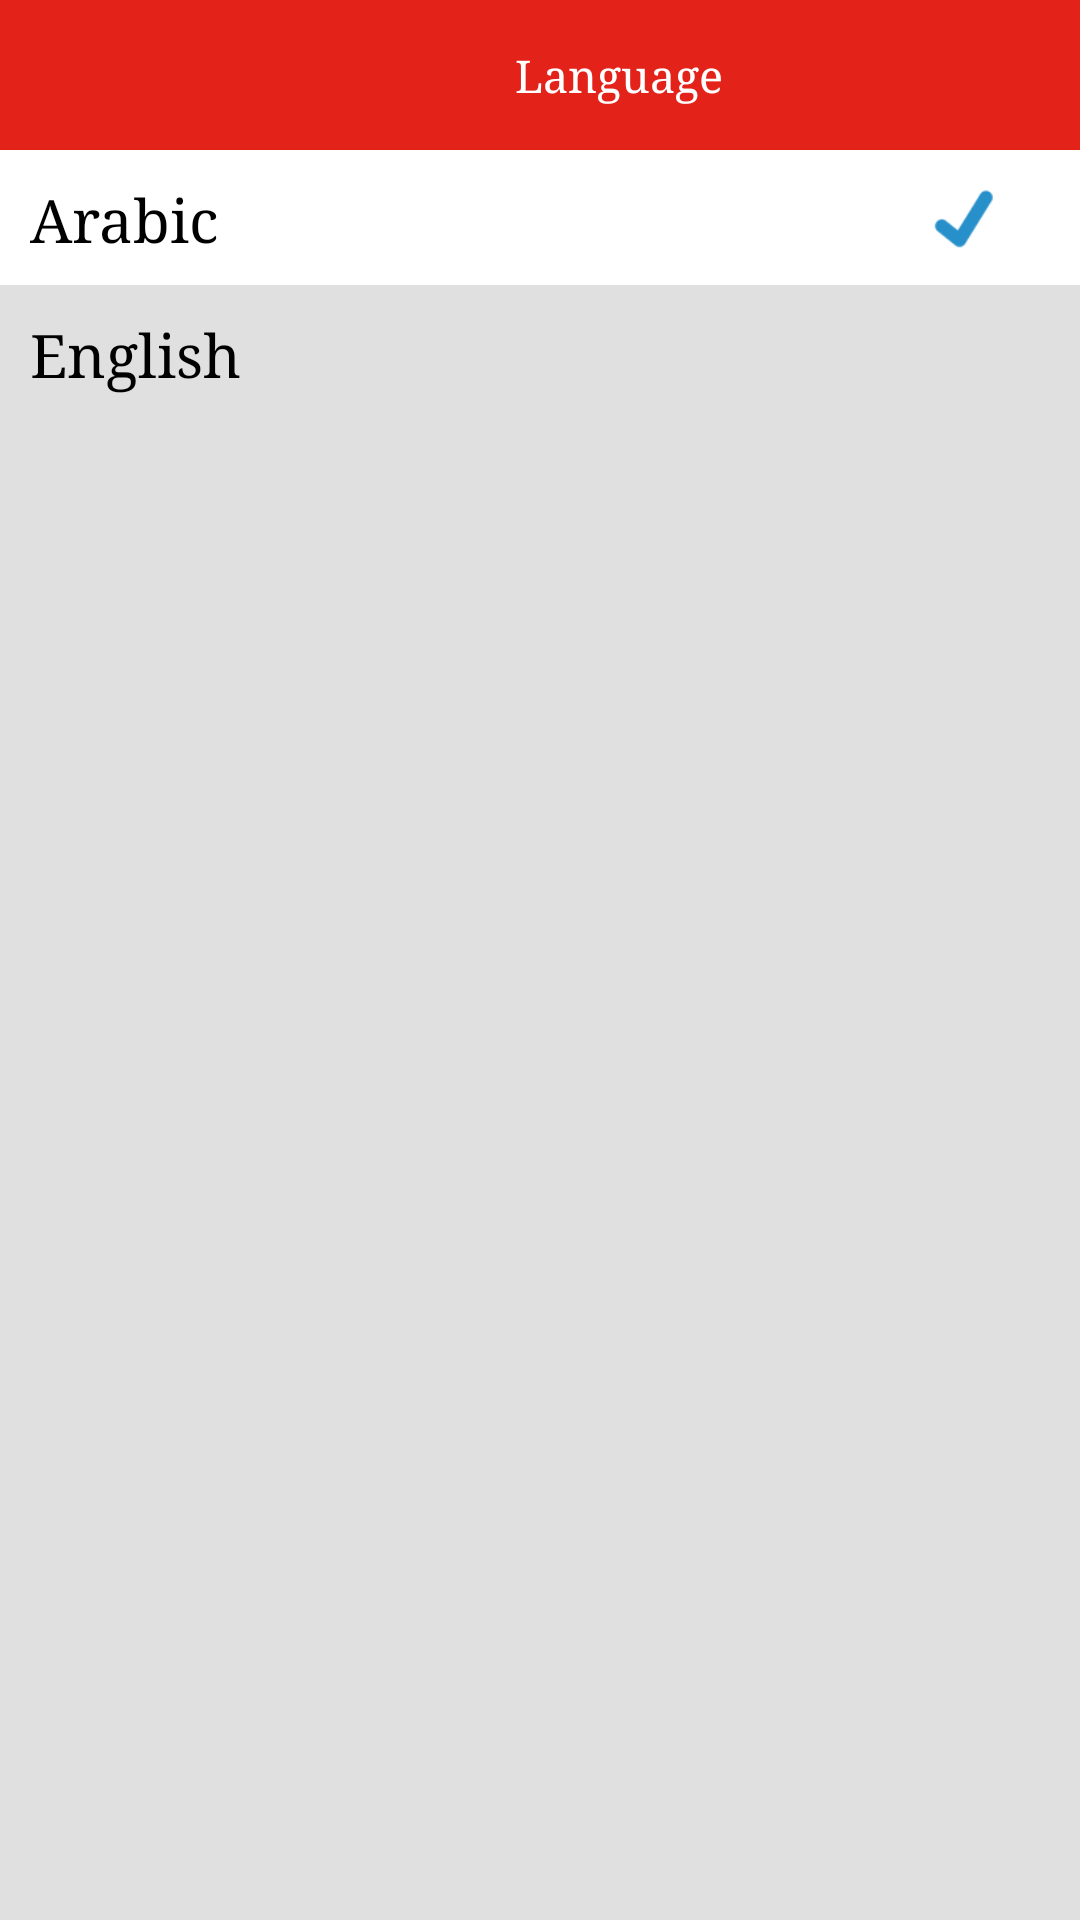

Point at icon controls on the screen. Image size 1080 × 1920, points as (x,y).
lang check: (963,219)
